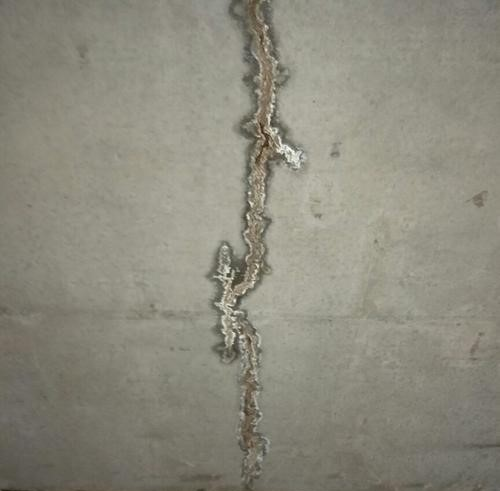Corrosion: (204, 1, 308, 491)
